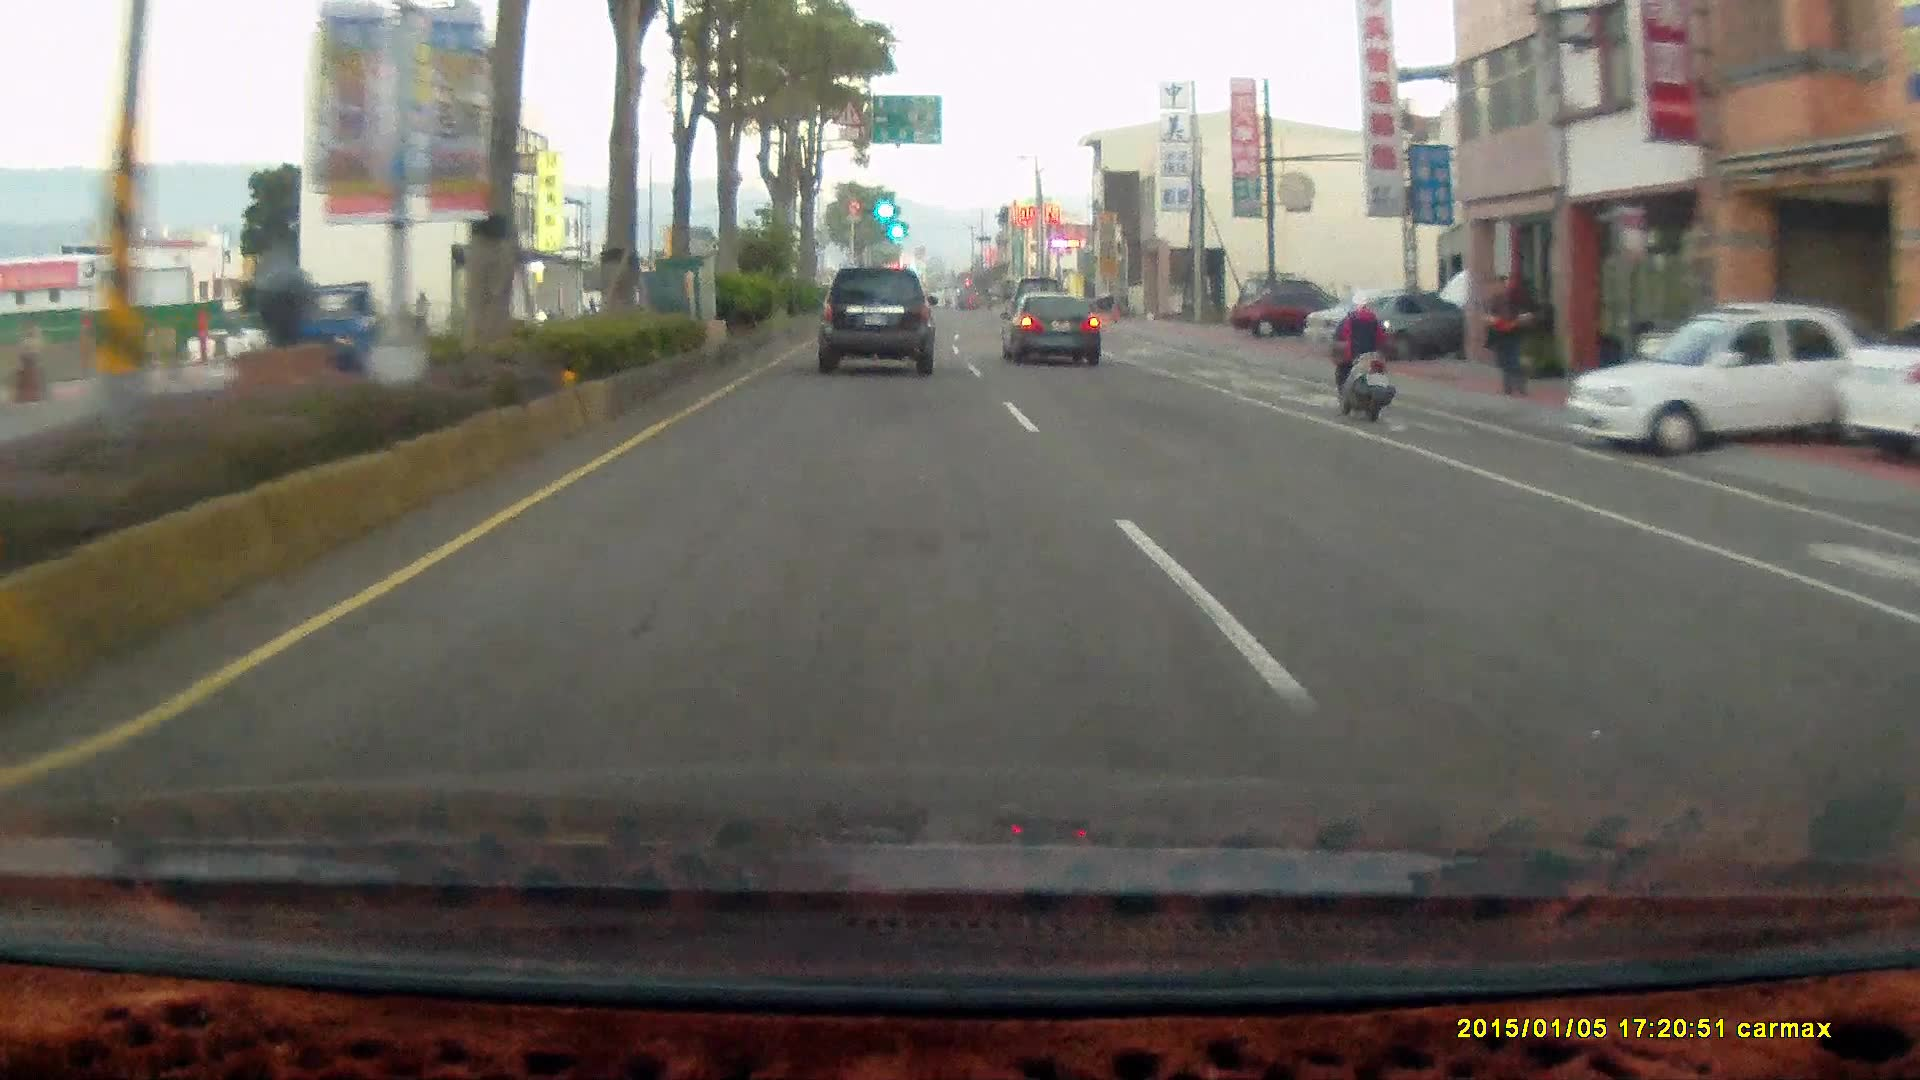pedestrian: (1478, 272, 1536, 400)
rider: (1317, 281, 1405, 430), (1327, 288, 1395, 420)
vehicle: (1569, 307, 1877, 472), (1560, 307, 1884, 461), (811, 263, 942, 383), (1301, 293, 1478, 370), (1830, 313, 1920, 465), (1830, 313, 1920, 464), (1303, 289, 1483, 362), (815, 266, 937, 375), (1230, 283, 1368, 342), (1001, 295, 1104, 371), (999, 290, 1101, 365), (1231, 286, 1367, 339)
